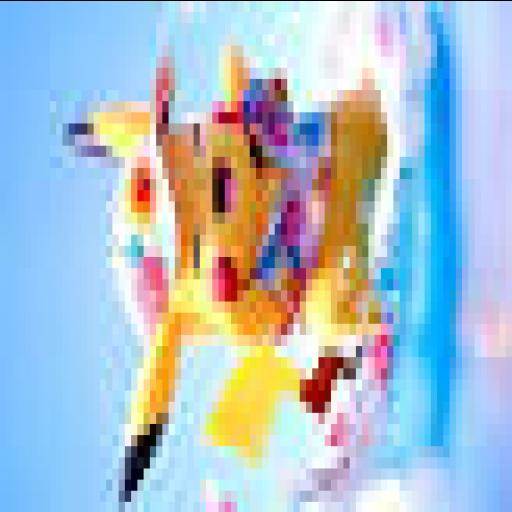Pikachu: (63, 44, 389, 512)
